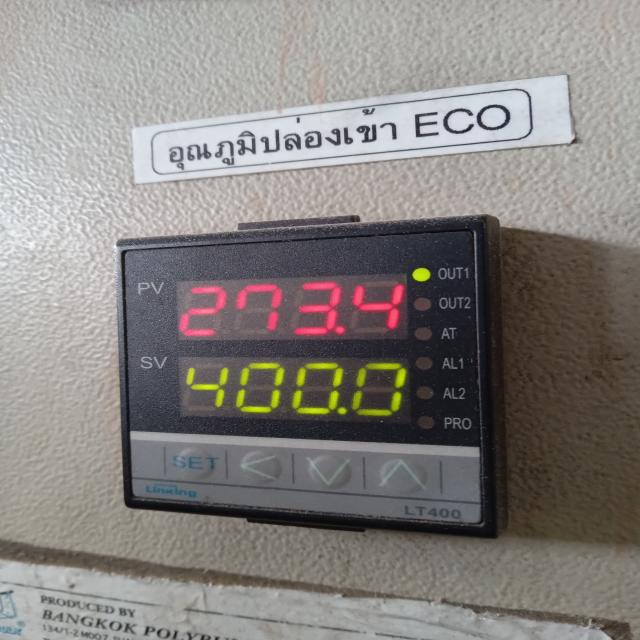display: (175, 355, 414, 426), (175, 270, 410, 342)
frame: (178, 280, 406, 338), (181, 360, 409, 418), (427, 506, 465, 520), (463, 296, 474, 311), (457, 386, 468, 401), (462, 266, 472, 281), (457, 356, 466, 371)
gauge: (113, 211, 515, 542)
